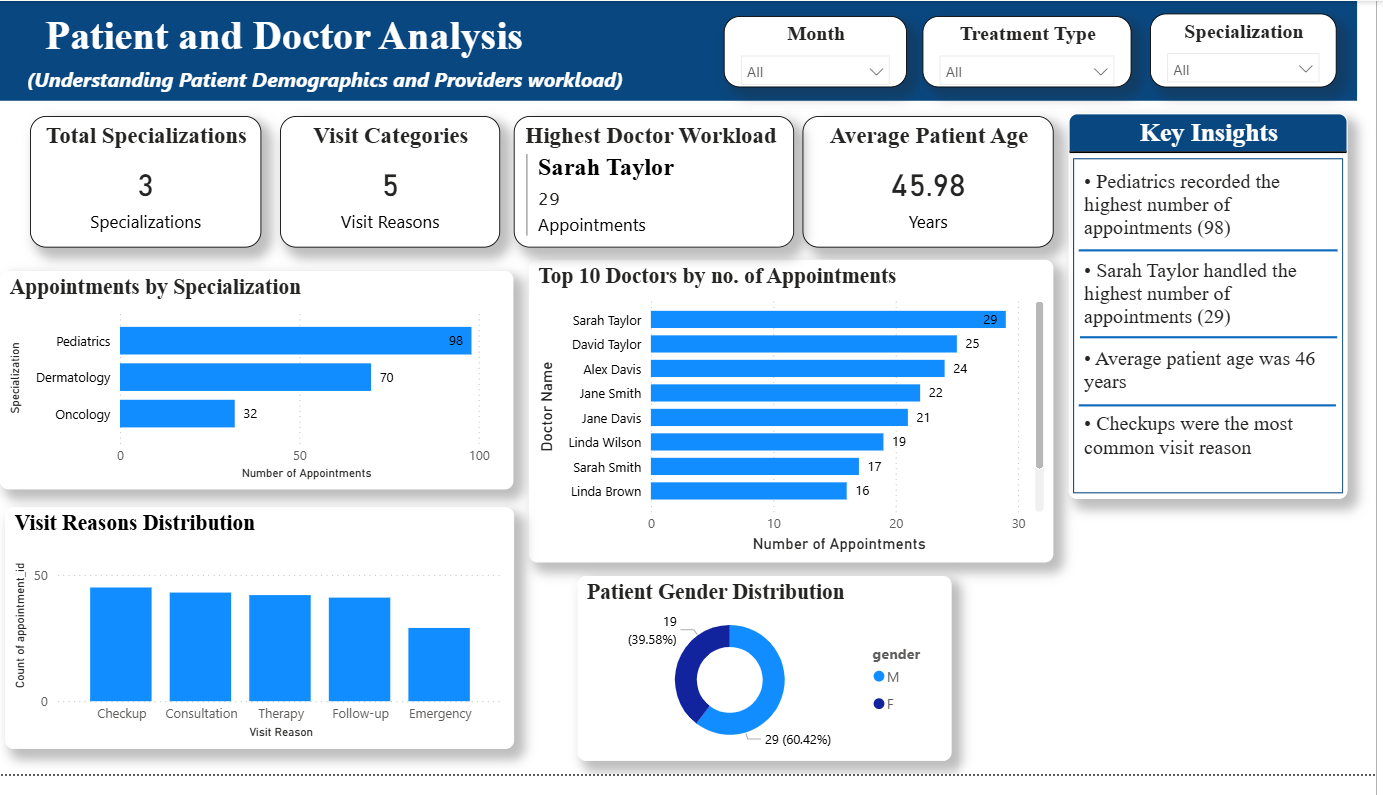

Layout of this report page (visuals, bound fields, positions):
{"tool":"powerbi","page":{"name":"Patient & Doctor Analysis","canvas":[1280,720],"ordinal":1},"visuals":[{"type":"textbox","box":[0,0,1262.8,93],"z":0},{"type":"card","title":"Total Specializations","fields":{"Values":["doctors.Active Doctors"]},"box":[27.9,107,215.1,122.1],"z":1000},{"type":"card","title":"Average Patient Age","fields":{"Values":["patients.Average Age"]},"box":[746.5,107,233.7,122.1],"z":2000},{"type":"clusteredBarChart","title":"Appointments by Specialization","fields":{"Category":["doctors.specialization"],"Y":["CountNonNull(appointments.appointment_id)"]},"box":[0,251.2,477.9,203.5],"z":3000},{"type":"clusteredBarChart","title":"Top 10 Doctors by no. of Appointments","fields":{"Category":["doctors.Name"],"Y":["CountNonNull(appointments.appointment_id)"]},"box":[491.9,240.7,488.4,281.4],"z":4000},{"type":"clusteredColumnChart","title":"Visit Reasons Distribution","fields":{"Category":["appointments.reason_for_visit"],"Y":["CountNonNull(appointments.appointment_id)"]},"box":[4.7,470.9,473.3,224.4],"z":5000},{"type":"shape","title":"Key Insights   ","box":[994.2,104.7,259.3,358.1],"z":6000},{"type":"textbox","box":[1003.5,152.3,239.5,310.5],"z":7000},{"type":"shape","box":[1003.5,368.6,239.5,15.1],"z":8000},{"type":"shape","box":[1004.7,162.8,239.5,300],"z":9000},{"type":"shape","box":[1003.5,82.6,240.7,298.8],"z":10000},{"type":"donutChart","title":"Patient Gender Distribution","fields":{"Category":["patients.gender"],"Y":["CountNonNull(patients.patient_id)"]},"box":[537.2,534.9,347.7,172.1],"z":11000},{"type":"slicer","title":"Month","fields":{"Values":["appointments.appointment_date.Variation.Date Hierarchy.Month"]},"box":[673.6,14.4,170.5,66],"z":12000},{"type":"slicer","title":"Treatment Type","fields":{"Values":["treatments.treatment_type"]},"box":[858.1,14,194.2,66.3],"z":13000},{"type":"slicer","title":"Specialization","fields":{"Values":["doctors.specialization"]},"box":[1069.8,11.6,173.3,68.6],"z":14000},{"type":"card","title":"Visit Categories","fields":{"Values":["Count(appointments.reason_for_visit)"]},"box":[260.5,107,204.7,122.1],"z":15000},{"type":"multiRowCard","title":"Highest Doctor Workload","fields":{"Values":["appointments.Top Doctor","appointments.Top Doctor Appointments"]},"box":[477.9,107,260.5,122.1],"z":16000}]}

Visuals, with their boxes in screenshot pixels (x1, y1, x2, y2), scaled from the page's 1280x720 canvas onto the 1383x795 screenshot:
textbox: pyautogui.locateOnScreen(0, 0, 1364, 103)
"Total Specializations" card: pyautogui.locateOnScreen(30, 118, 263, 253)
"Average Patient Age" card: pyautogui.locateOnScreen(807, 118, 1059, 253)
"Appointments by Specialization" clusteredBarChart: pyautogui.locateOnScreen(0, 277, 516, 502)
"Top 10 Doctors by no. of Appointments" clusteredBarChart: pyautogui.locateOnScreen(531, 266, 1059, 576)
"Visit Reasons Distribution" clusteredColumnChart: pyautogui.locateOnScreen(5, 520, 516, 768)
"Key Insights   " shape: pyautogui.locateOnScreen(1074, 116, 1354, 511)
textbox: pyautogui.locateOnScreen(1084, 168, 1343, 511)
shape: pyautogui.locateOnScreen(1084, 407, 1343, 424)
shape: pyautogui.locateOnScreen(1086, 180, 1344, 511)
shape: pyautogui.locateOnScreen(1084, 91, 1344, 421)
"Patient Gender Distribution" donutChart: pyautogui.locateOnScreen(580, 591, 956, 781)
"Month" slicer: pyautogui.locateOnScreen(728, 16, 912, 89)
"Treatment Type" slicer: pyautogui.locateOnScreen(927, 15, 1137, 89)
"Specialization" slicer: pyautogui.locateOnScreen(1156, 13, 1343, 89)
"Visit Categories" card: pyautogui.locateOnScreen(281, 118, 503, 253)
"Highest Doctor Workload" multiRowCard: pyautogui.locateOnScreen(516, 118, 798, 253)
